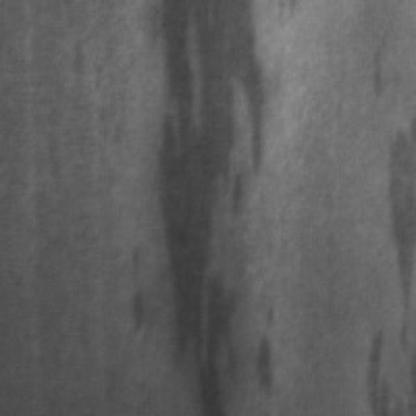inclusion: (141, 0, 278, 408), (374, 115, 416, 344), (123, 223, 164, 348), (360, 320, 403, 414), (366, 35, 397, 102)
